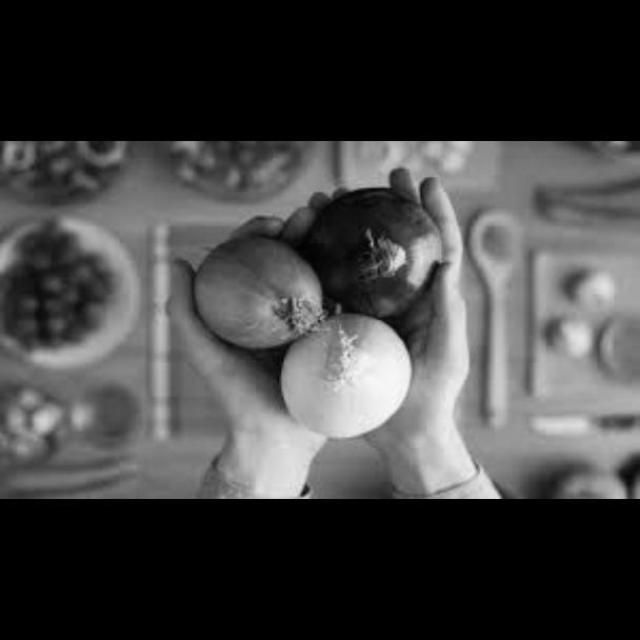ca chua: (0, 225, 120, 363)
ca rot: (536, 176, 640, 245), (0, 458, 152, 500)
cu hanh: (309, 184, 445, 321), (278, 314, 413, 440), (194, 238, 326, 351)
ot chuong: (540, 462, 633, 500)
toi: (571, 269, 627, 320), (551, 317, 596, 367)
